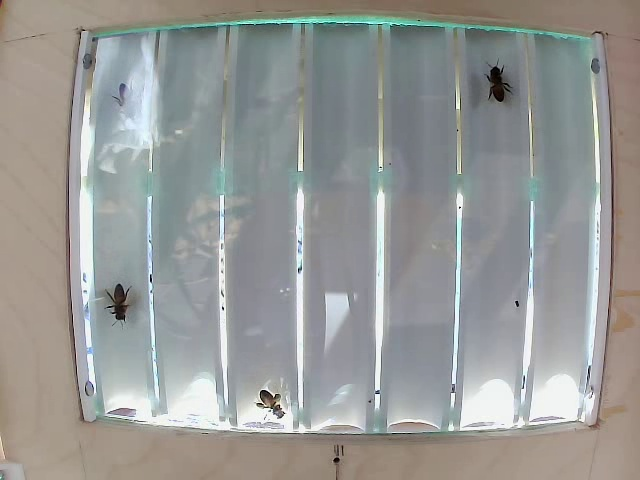bee: (477, 64, 519, 125), (253, 376, 304, 423), (100, 280, 139, 318)
